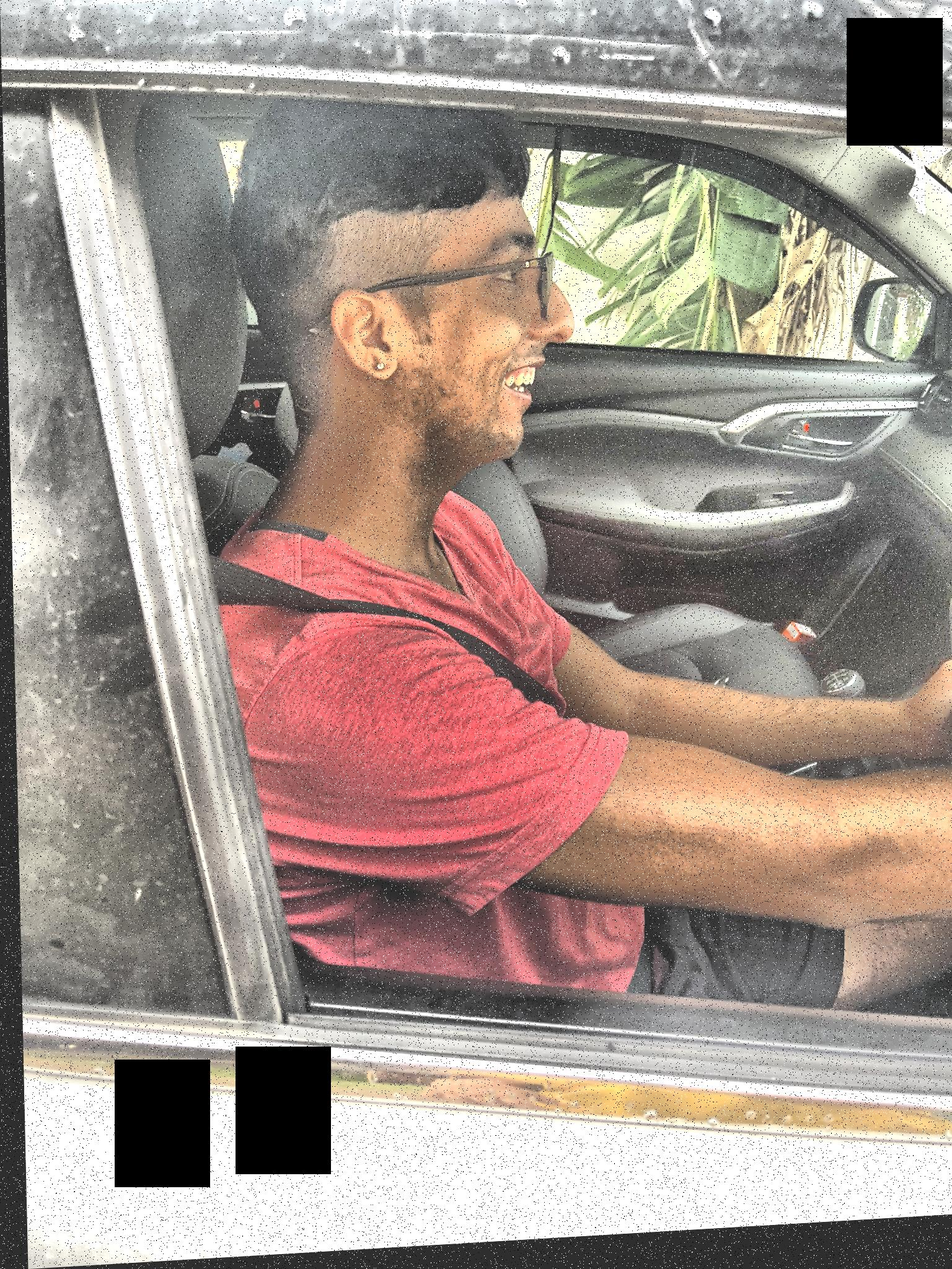seatbelt: (198, 441, 587, 756)
